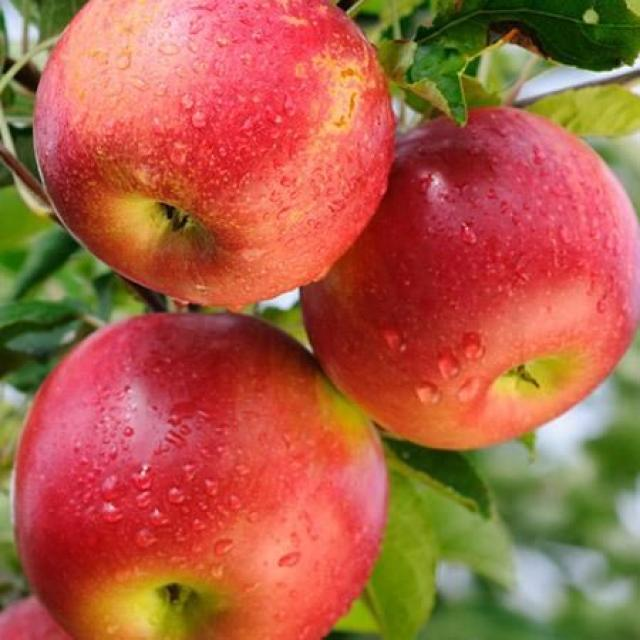Apple: (11, 308, 386, 640), (301, 105, 640, 450), (32, 1, 396, 310)
